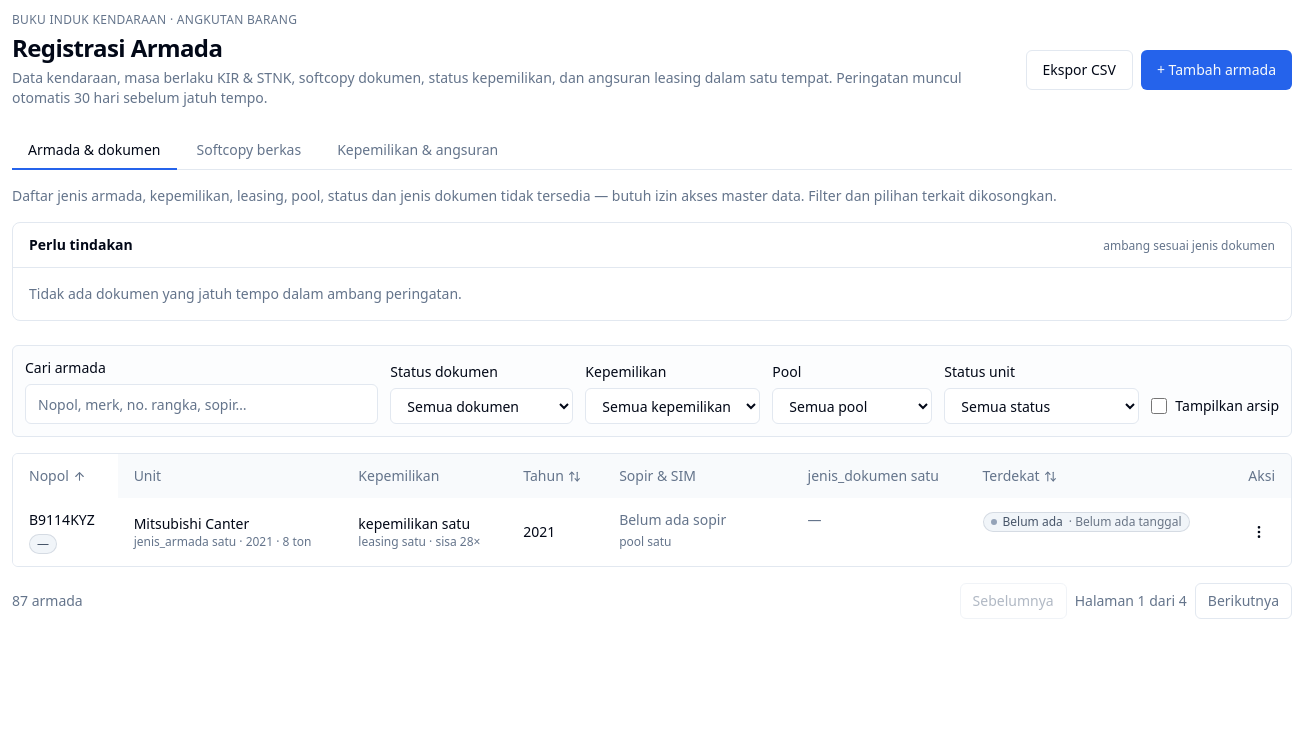
Test case: FleetVehiclesPage › resets to the first page when the sort changes
Click the button "Berikutnya".
click(1243, 601)  # box [1195,583,1292,619]
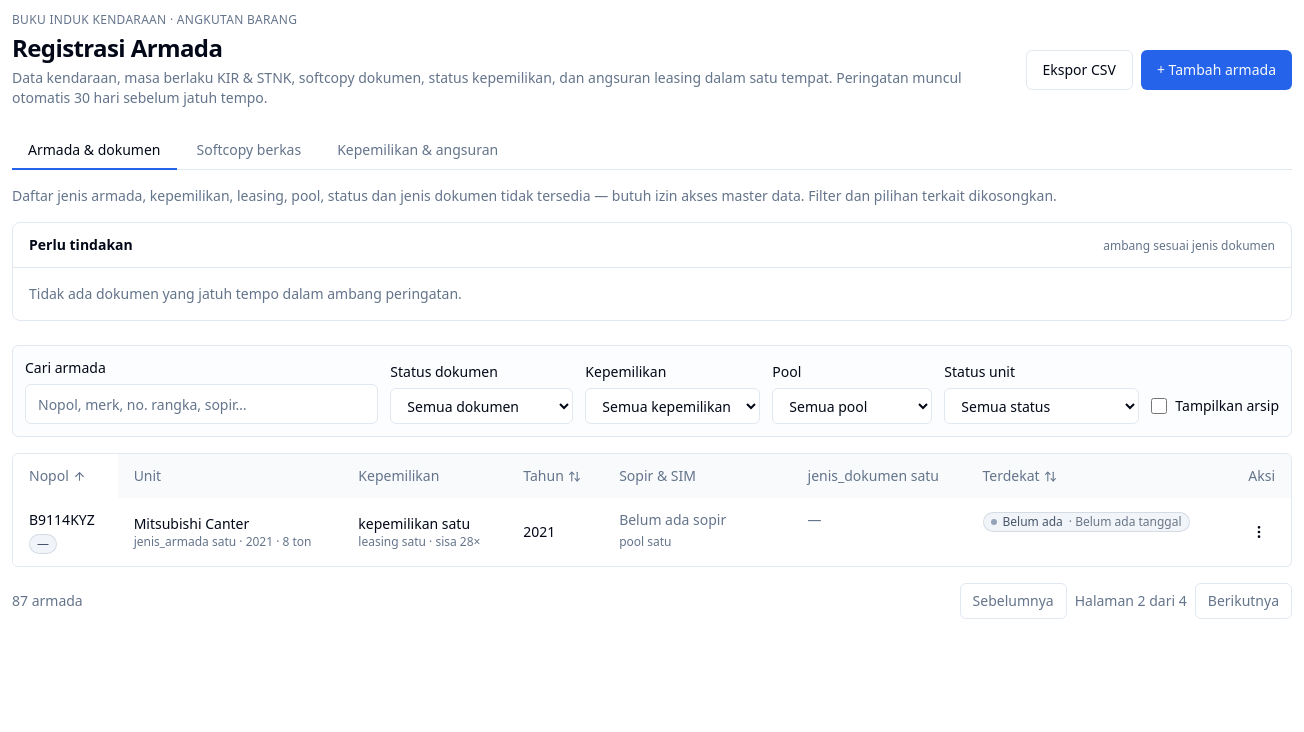
Click the button "Berikutnya".
click(1243, 601)  # box [1195,583,1292,619]
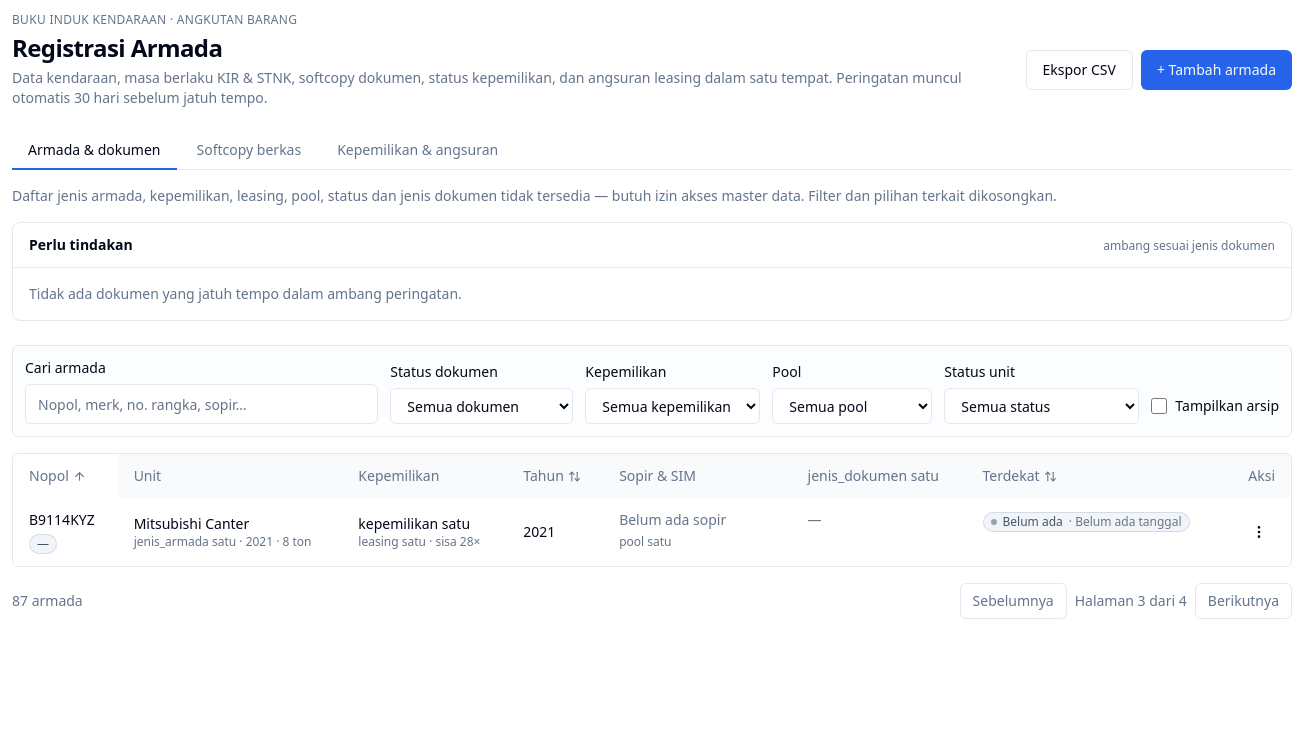
Click the button "Tahun".
click(552, 476)  # box [523,466,581,486]
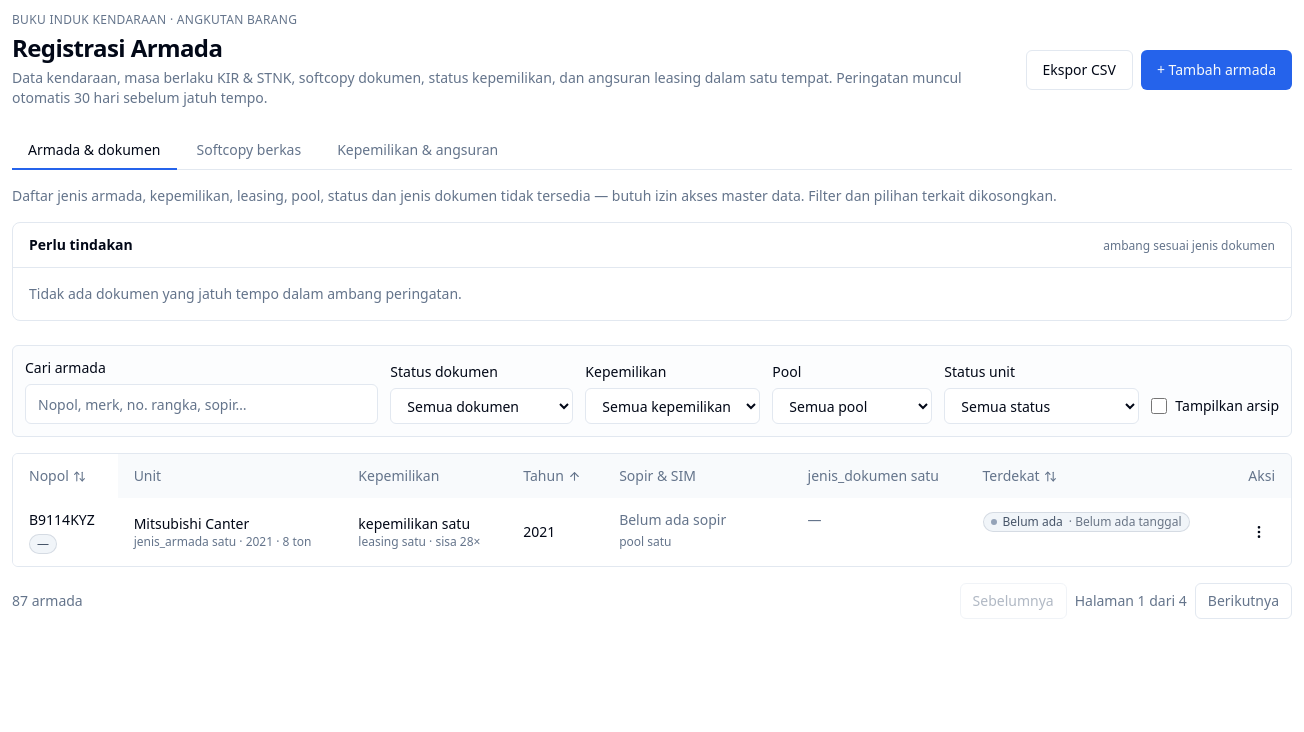
Expected: the text "Halaman 1 dari 4" is shown, [1075,591,1187,611]
